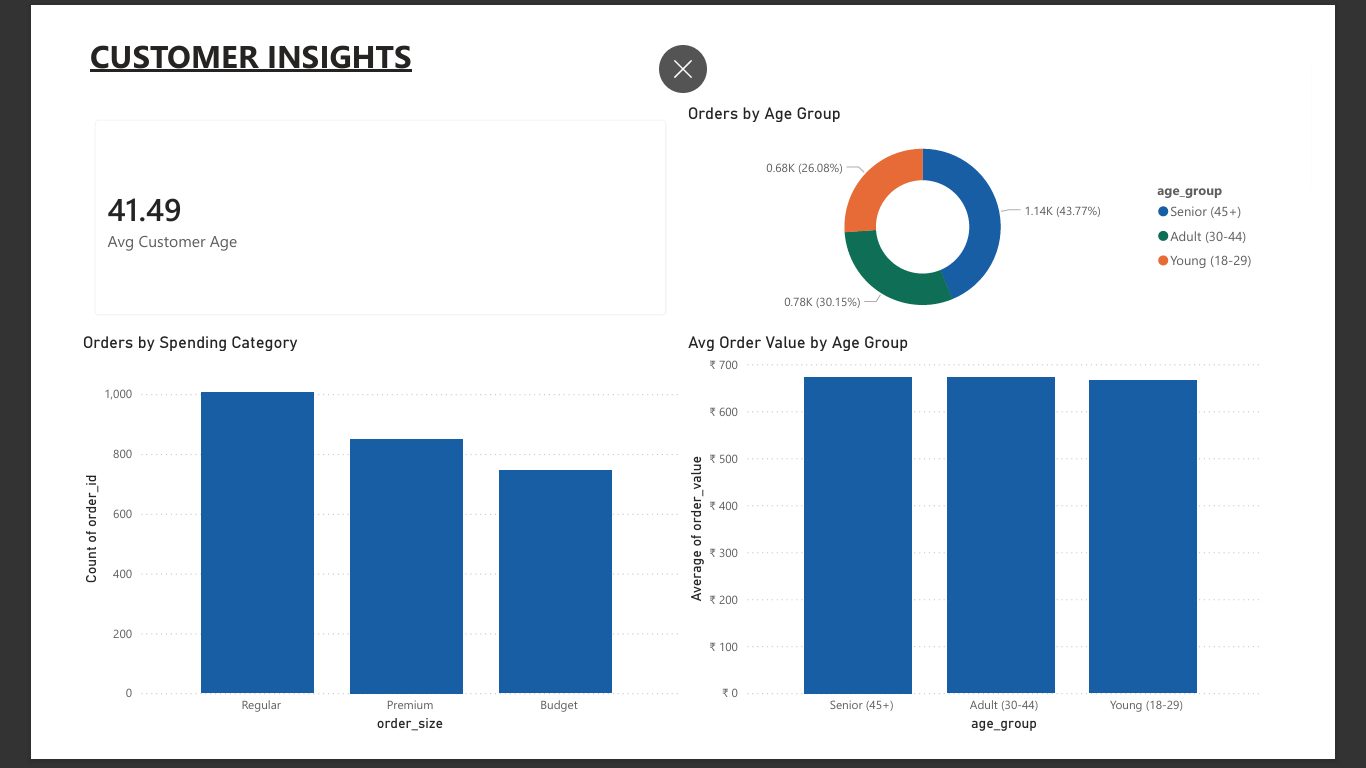

What the dashboard file says about the page in this screenshot:
{"tool":"powerbi","page":{"name":"Customer Insights","canvas":[1280,720],"ordinal":1},"visuals":[{"type":"cardVisual","fields":{"Data":["Avg(food_delivery_processed.customer_age)"]},"box":[24.3,75.7,615.7,232.9],"z":0},{"type":"donutChart","title":"Orders by Age Group","fields":{"Category":["food_delivery_processed.age_group"],"Y":["CountNonNull(food_delivery_processed.order_id)"]},"box":[640,75.7,592.9,232.9],"z":1000},{"type":"clusteredColumnChart","title":"Avg Order Value by Age Group","fields":{"Category":["food_delivery_processed.age_group"],"Y":["Avg(food_delivery_processed.order_value)"]},"box":[640,308.6,592.9,411.4],"z":2000},{"type":"clusteredColumnChart","title":"Orders by Spending Category","fields":{"Category":["food_delivery_processed.order_size"],"Y":["CountNonNull(food_delivery_processed.order_id)"]},"box":[24.3,308.6,615.7,411.4],"z":3000},{"type":"textbox","box":[0,0,400,75.7],"z":4000}]}

Visuals, with their boxes in screenshot pixels (x1, y1, x2, y2), scaled from the page's 1280x720 canvas onto the 1366x768 screenshot:
cardVisual - Avg(food_delivery_processed.customer_age): <region>26, 81, 683, 329</region>
"Orders by Age Group" donutChart: <region>683, 81, 1316, 329</region>
"Avg Order Value by Age Group" clusteredColumnChart: <region>683, 329, 1316, 767</region>
"Orders by Spending Category" clusteredColumnChart: <region>26, 329, 683, 767</region>
textbox: <region>0, 0, 427, 81</region>
